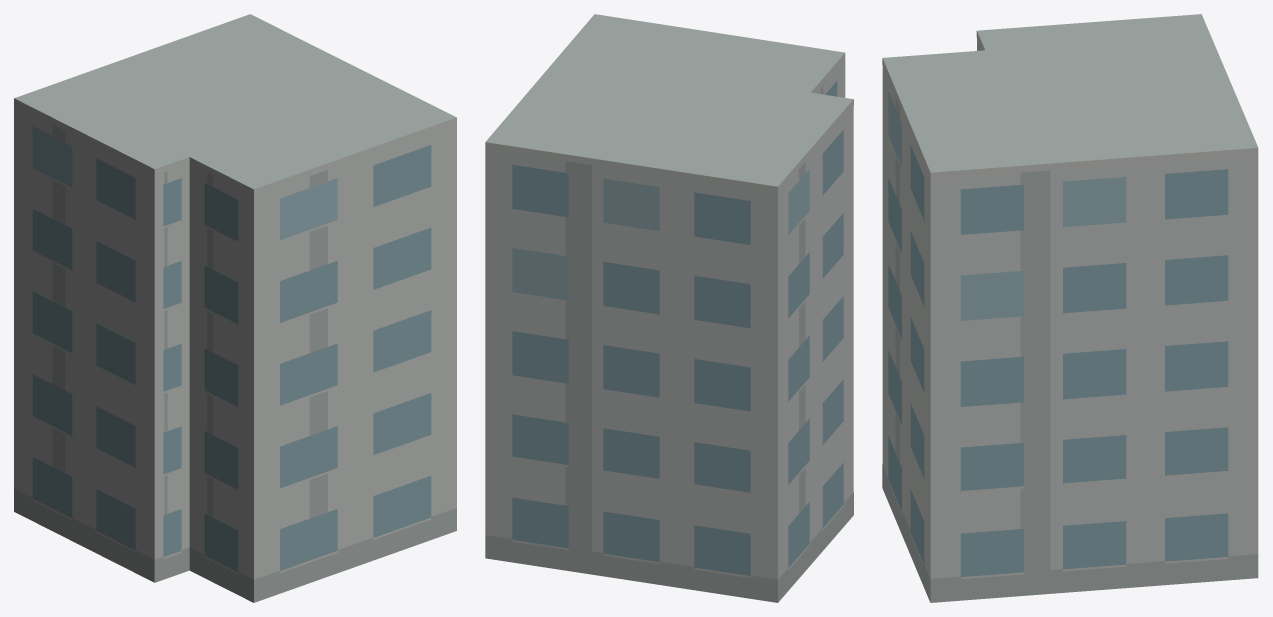
File: survey-upis-32574885.glb
The picture shows the model from 3 angles, left to right: view 1: azimuth 30°, elevation 25°; view 2: azimuth 150°, elevation 25°; view 3: azimuth 270°, elevation 25°; orthographic projection. The views are drawn at different scales.
Visible parts, largest first — view 1: survey-upis-32574885.tmp; view 2: survey-upis-32574885.tmp; view 3: survey-upis-32574885.tmp.
Boxes of the visible parts, x1,y1,x2,y2 form: survey-upis-32574885.tmp: [14, 14, 456, 602]; survey-upis-32574885.tmp: [485, 14, 853, 602]; survey-upis-32574885.tmp: [882, 14, 1258, 602].
Bounding box in the file's own units: 11.99 × 15.15 × 12.01.
